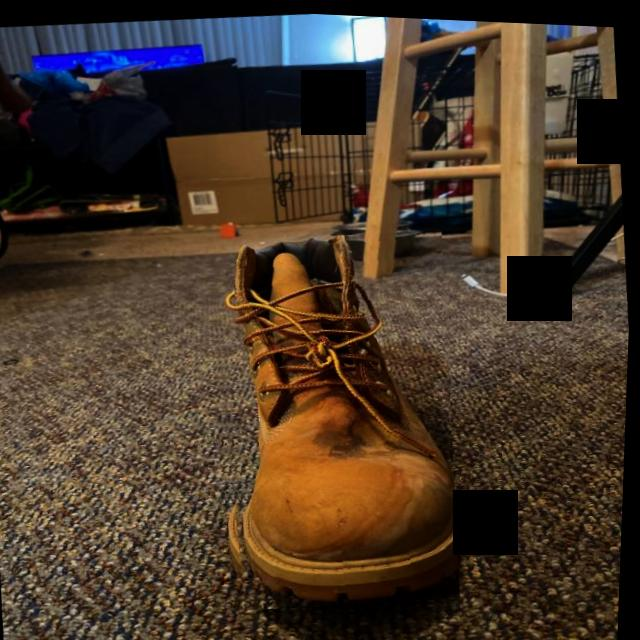shoe: (198, 218, 475, 616)
